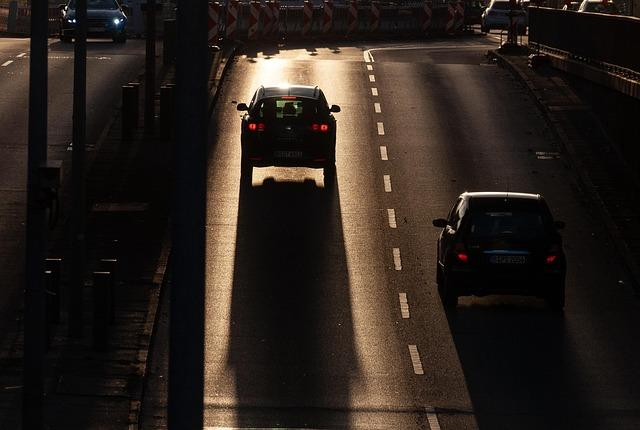Non_Gorille: (12, 36, 640, 393)
